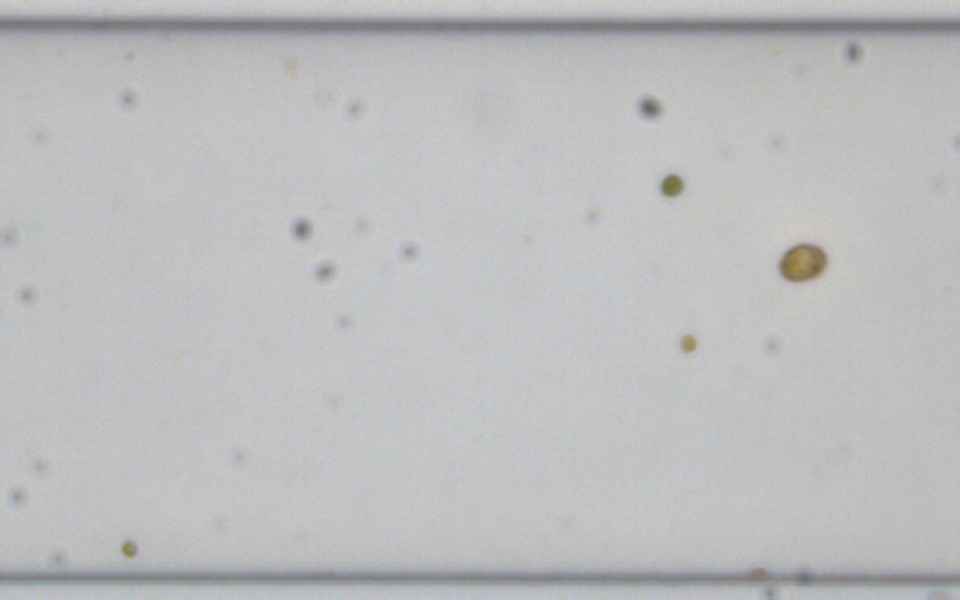Chlorella: (659, 172, 684, 196), (119, 537, 139, 557), (679, 333, 696, 350)
Effrenium: (776, 241, 828, 283)
